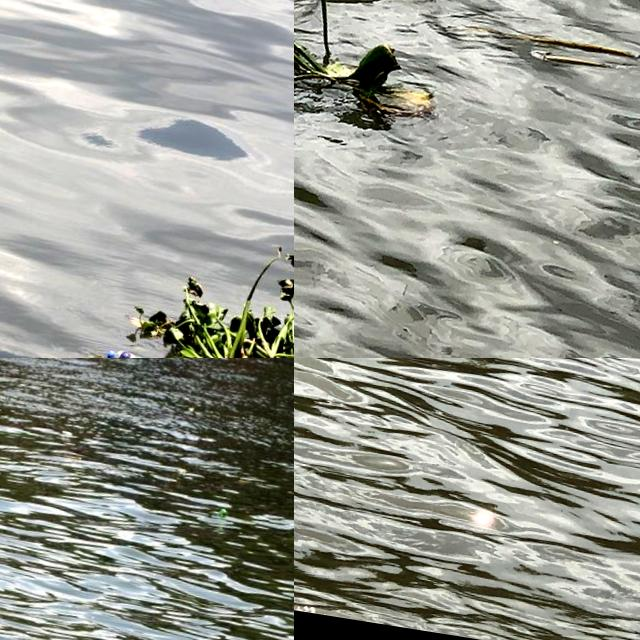water-hyacinth: (295, 1, 493, 174), (121, 232, 295, 359)
